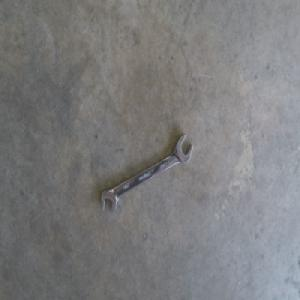Wrench: (101, 134, 193, 214)
